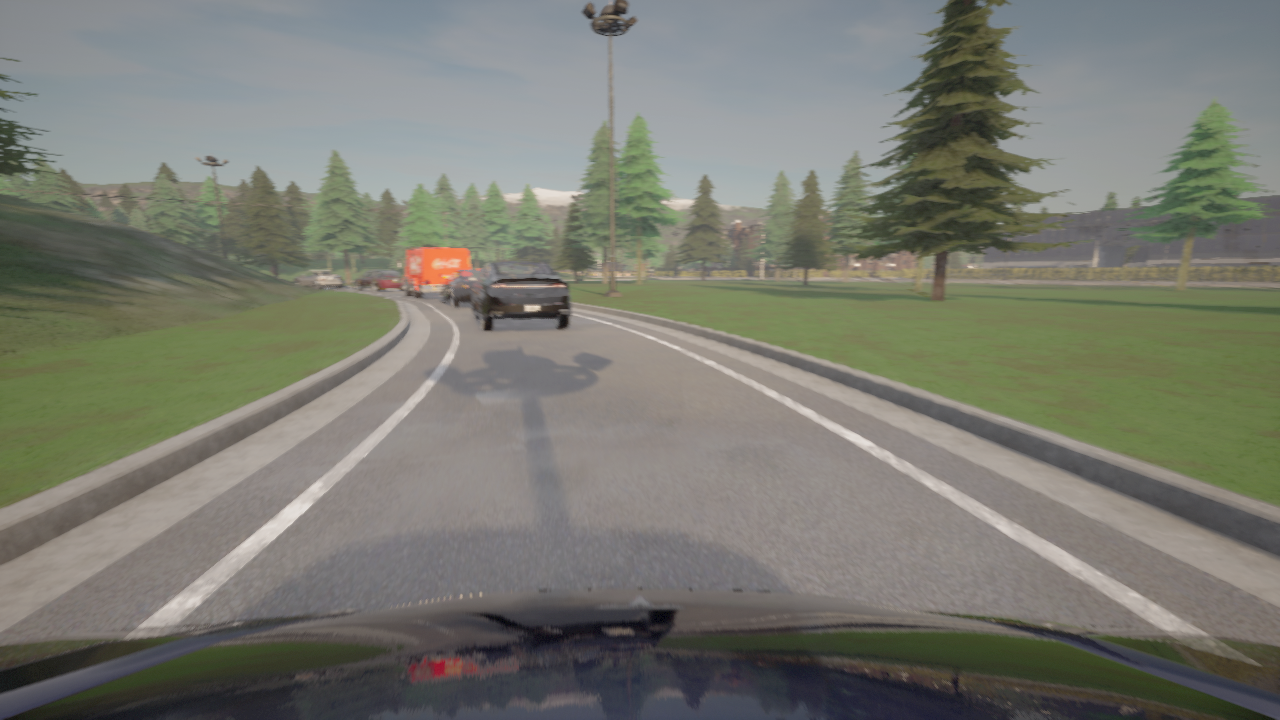cyclist: (0, 588, 1279, 719), (466, 260, 570, 331), (397, 247, 469, 298), (439, 269, 482, 307), (353, 269, 403, 291), (293, 270, 343, 288)
